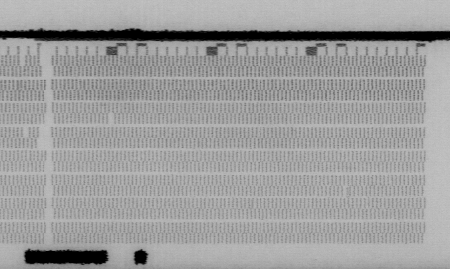Broken hole: (36, 126, 49, 149), (38, 56, 47, 79), (20, 126, 33, 139), (17, 54, 28, 69), (106, 113, 117, 127)
Oblique printing: (340, 185, 353, 198)
